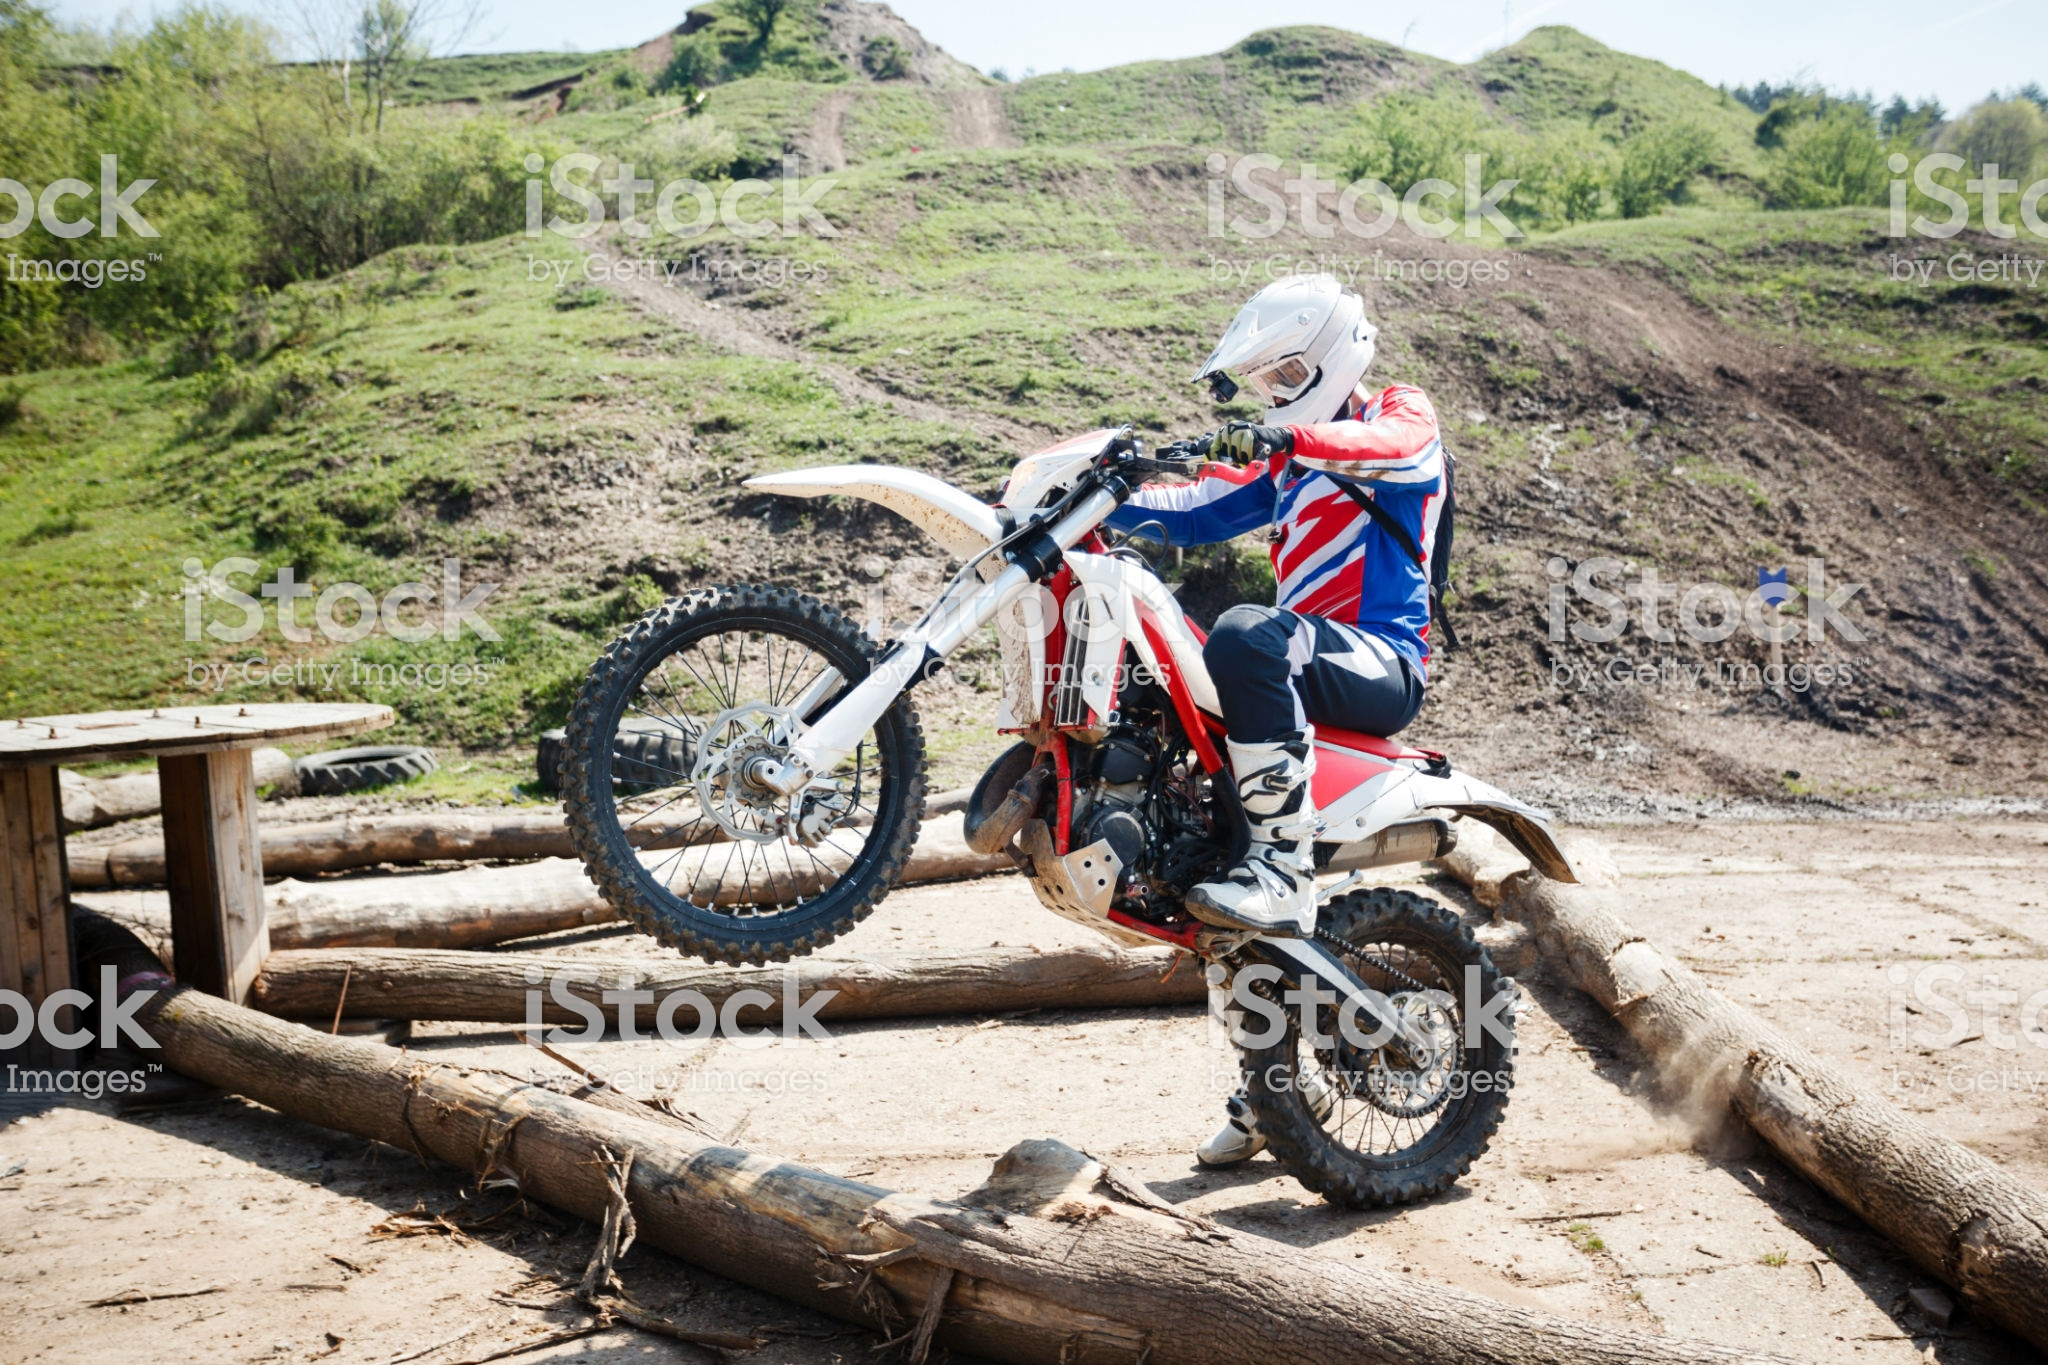helmet: (1177, 267, 1404, 411)
